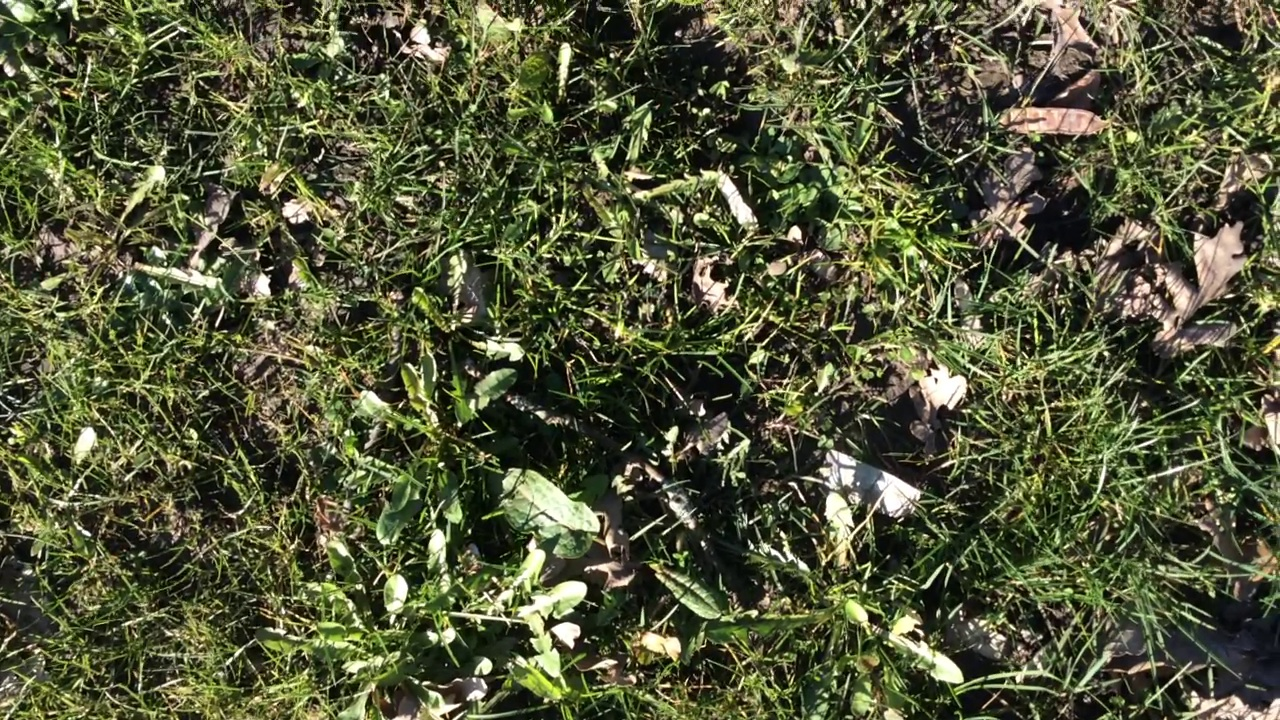rumex: (490, 470, 601, 561), (648, 565, 721, 619)
